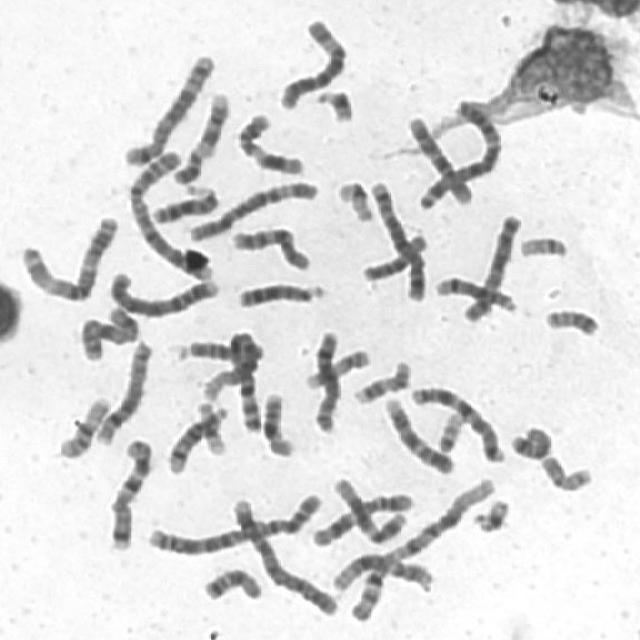A1: (340, 471, 500, 626), (199, 330, 265, 436)
A2: (142, 488, 326, 559), (121, 144, 213, 280)
A3: (412, 95, 504, 213), (13, 210, 120, 302)
B4: (227, 493, 340, 618), (104, 265, 222, 319)
B5: (119, 48, 218, 168), (365, 178, 429, 304)
C10: (402, 112, 477, 207), (227, 222, 313, 273)
C11: (306, 488, 416, 549), (231, 109, 307, 178)
C12: (328, 472, 409, 546), (326, 549, 434, 596)
C6: (182, 176, 320, 243), (273, 13, 350, 111)
C7: (406, 381, 508, 466), (104, 433, 156, 552)
C8: (90, 337, 153, 447), (308, 324, 342, 436)
C9: (379, 392, 455, 477), (167, 86, 231, 186)
D13: (147, 181, 221, 226), (231, 277, 328, 311)
D14: (161, 400, 229, 477), (430, 272, 519, 316)
D15: (358, 228, 429, 284), (170, 340, 264, 364)
E16: (52, 392, 112, 461), (256, 388, 296, 459)
E17: (300, 344, 372, 391), (348, 355, 412, 406)
E18: (198, 563, 264, 604), (506, 421, 554, 461)
F19: (191, 397, 229, 457), (332, 176, 376, 224)
F20: (536, 451, 594, 493), (540, 304, 601, 338)
G21: (468, 493, 512, 535), (311, 85, 356, 125)
G22: (431, 406, 468, 454), (514, 231, 570, 261)
X: (459, 208, 523, 326), (75, 301, 141, 363)
